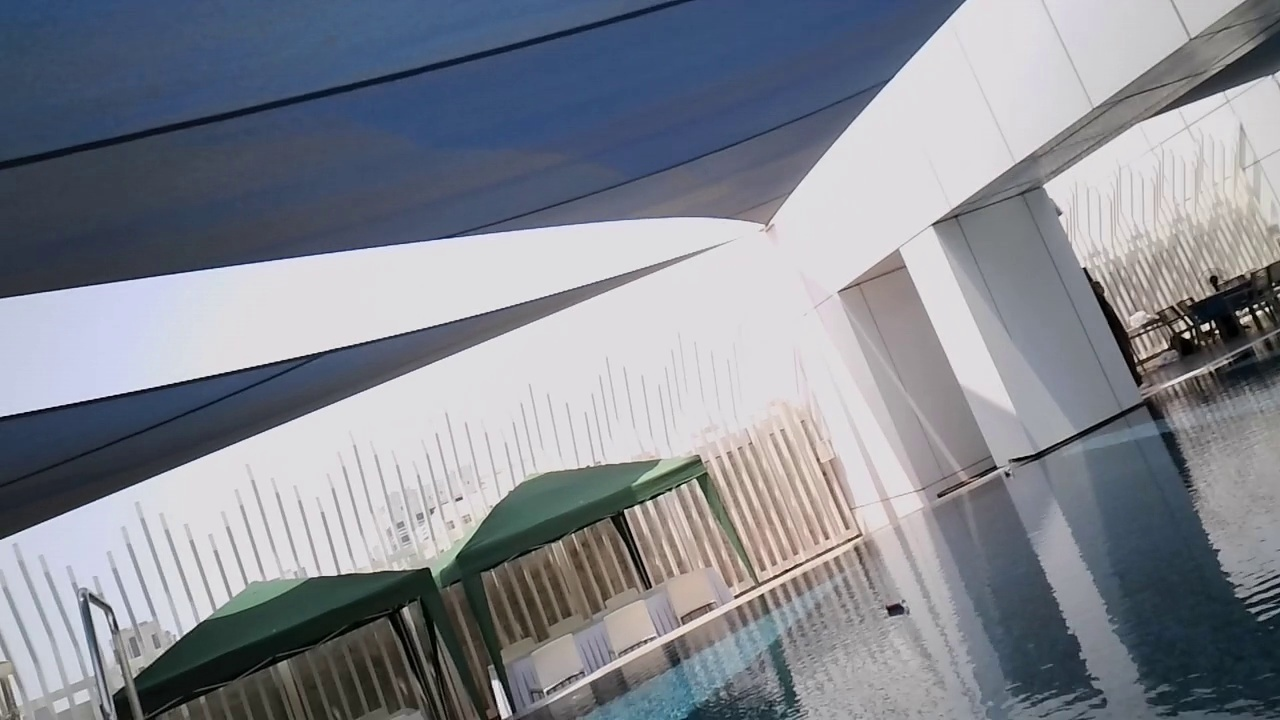debris: (879, 598, 910, 620), (1000, 465, 1018, 480)
